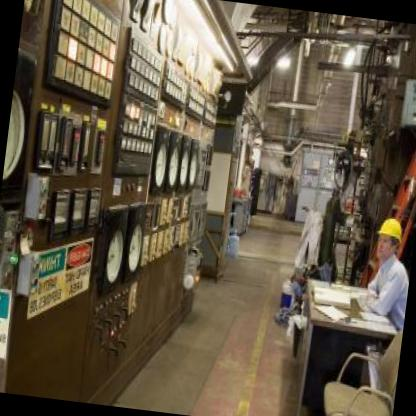helmet: (372, 212, 407, 267)
